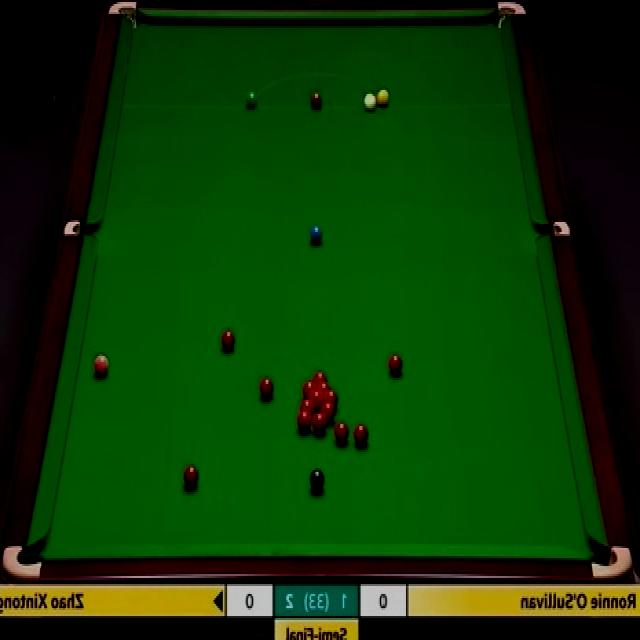black-ball: (309, 467, 325, 493)
blue-ball: (310, 224, 323, 242)
brown-ball: (310, 92, 323, 109)
green-ball: (244, 88, 258, 112)
pink-ball: (94, 353, 111, 376)
red-ball: (259, 376, 275, 402), (388, 353, 402, 378), (354, 421, 368, 446), (336, 422, 350, 447), (184, 465, 199, 488), (311, 412, 326, 433), (308, 389, 322, 411), (322, 400, 335, 423), (222, 329, 235, 352), (298, 412, 312, 432), (323, 390, 339, 407), (303, 380, 317, 399), (299, 400, 314, 416), (316, 380, 332, 392), (312, 369, 327, 381)
white-ball: (364, 94, 375, 112)
yellow-ball: (377, 89, 389, 110)
